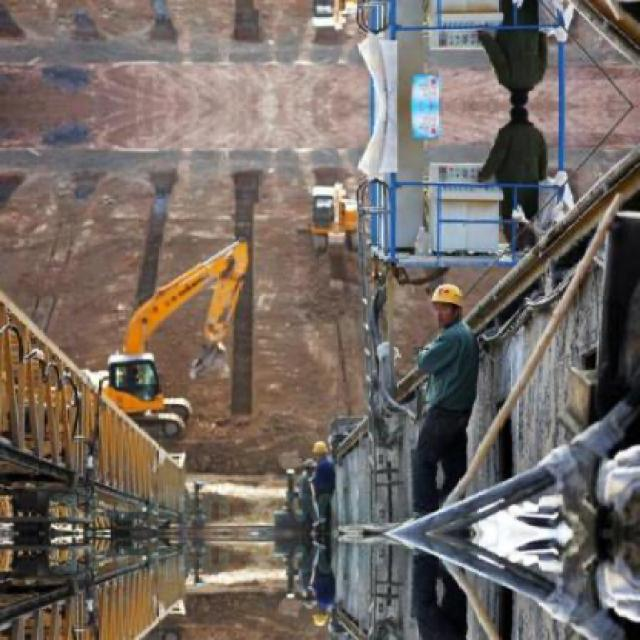con casco: (378, 267, 474, 383)
